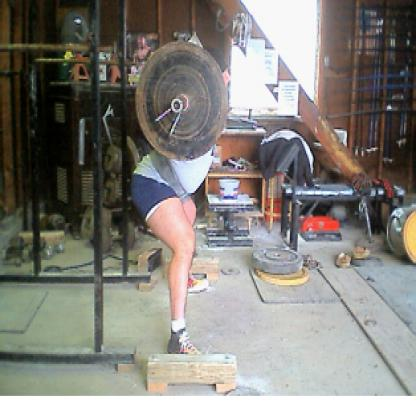Barbell: (130, 38, 229, 164)
